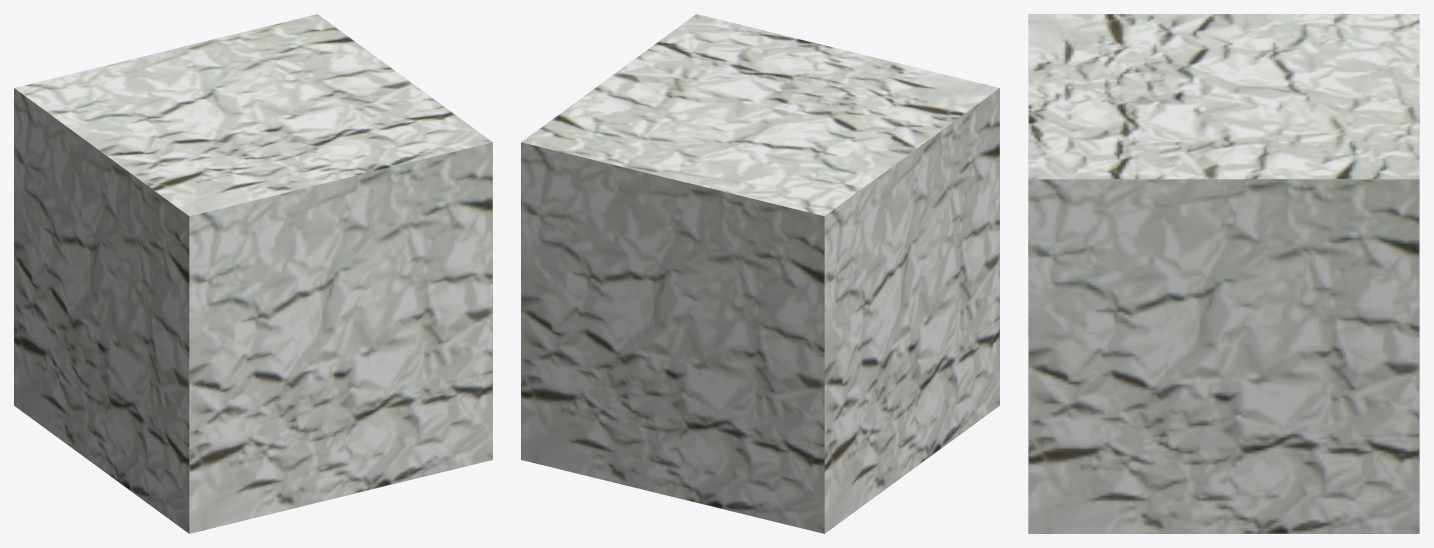
Rendered from Aluminum.FBX.
The picture shows the model from 3 angles, left to right: view 1: azimuth 30°, elevation 25°; view 2: azimuth 150°, elevation 25°; view 3: azimuth 270°, elevation 25°; orthographic projection. The views are drawn at different scales.
Parts seen in each view (by area): view 1: Box001; view 2: Box001; view 3: Box001.
Boxes of the visible parts, x1,y1,x2,y2 form: Box001: [14, 14, 492, 533]; Box001: [521, 14, 999, 533]; Box001: [1028, 14, 1419, 533].
Size of the model in its own units: 119 by 119 by 119.
Materials: 1 (1 with a texture image).
